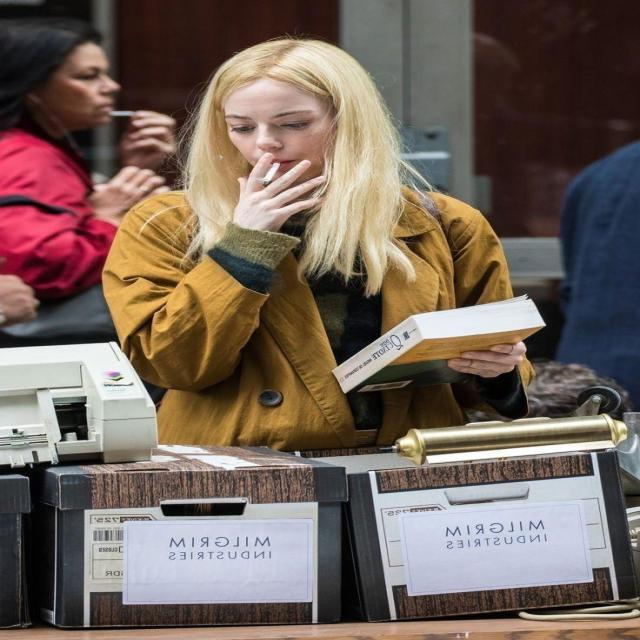cigarette: (266, 158, 294, 186)
